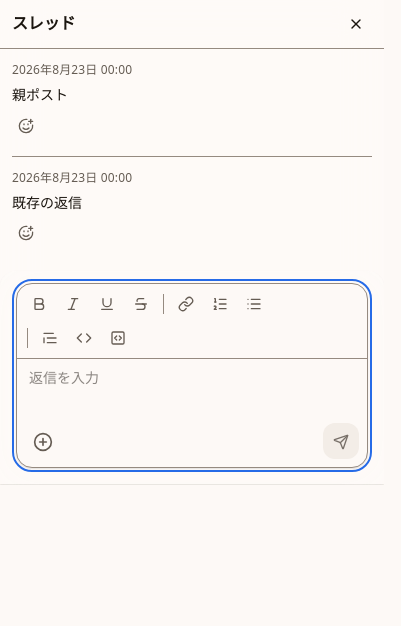
Test: ThreadPanel optimistic reply › keeps the failed reply in place and resends it on retry
Expected: the text "既存の返信" is shown, [12,193,82,212]
In the text box with test id "composer-input": (192, 389) [17,359,367,418], type "拒否される返信"
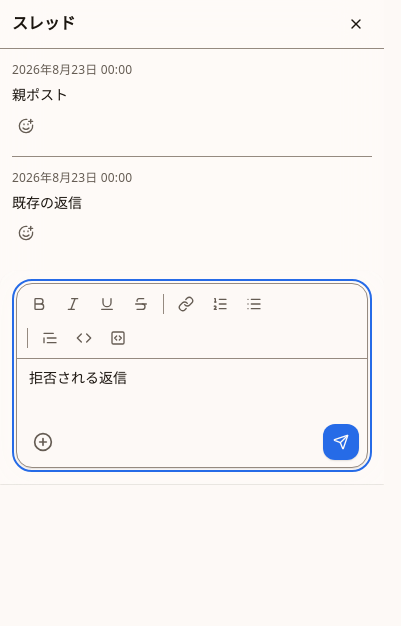
Submit the form with test id "thread-composer", box [0,271,384,485]
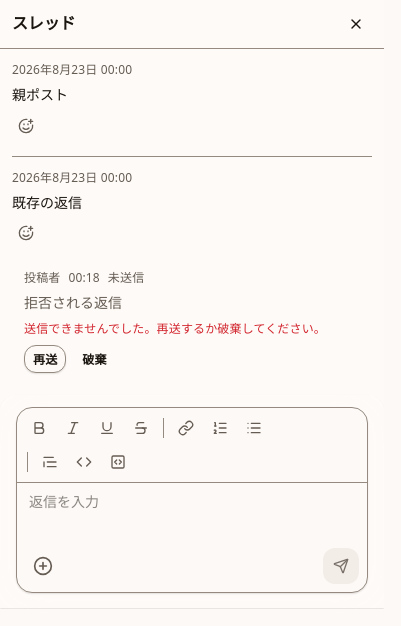
Expected: the button "再送" is shown
Expected: the text "拒否される返信" is shown, [24,293,122,312]
Click the button "再送": (45, 359) [24,345,66,373]
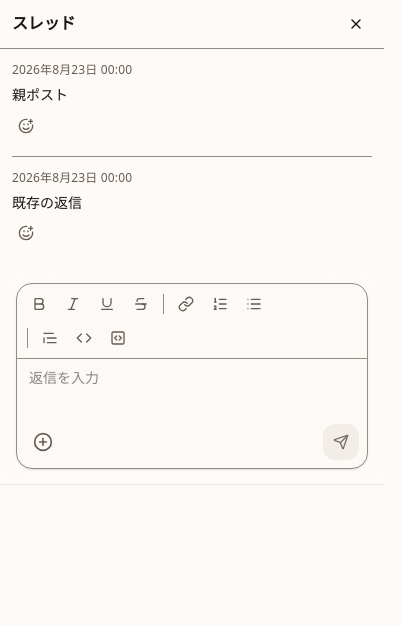
Expected: the message "再送" is gone
